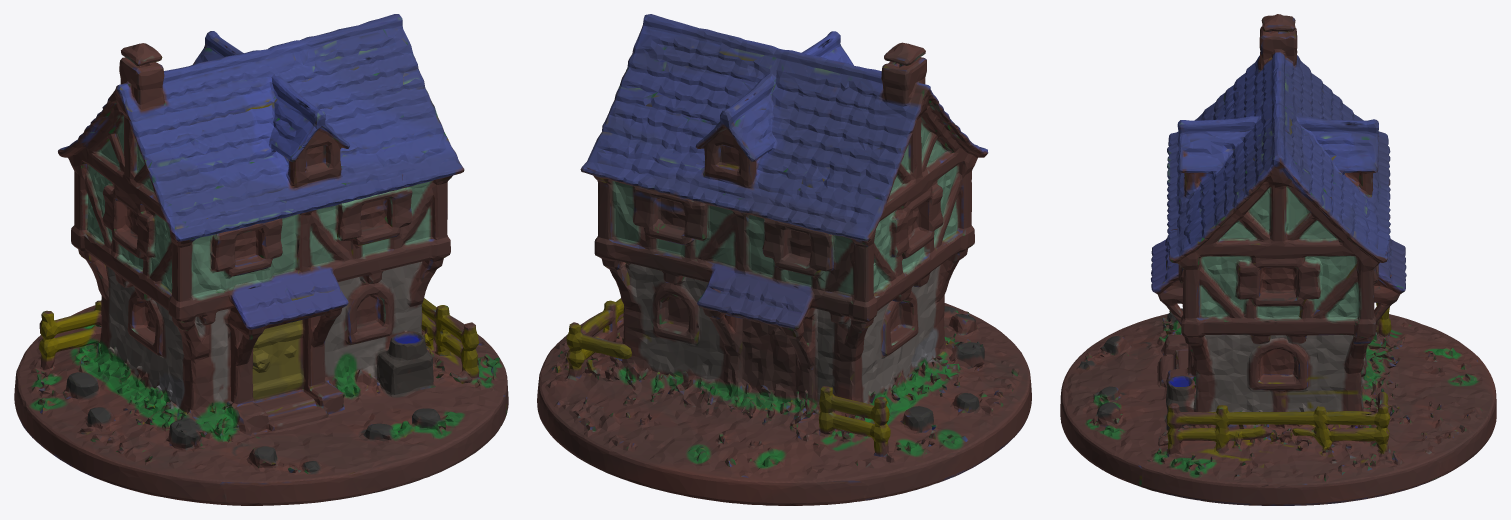
File: casa.glb
3 renders of one model, left to right at view 1: azimuth 30°, elevation 25°; view 2: azimuth 150°, elevation 25°; view 3: azimuth 270°, elevation 25°, orthographic. The views are drawn at different scales.
Visible parts, largest first — view 1: tmp3c7n5c9i.ply; view 2: tmp3c7n5c9i.ply; view 3: tmp3c7n5c9i.ply.
Boxes of the visible parts, x1,y1,x2,y2 form: tmp3c7n5c9i.ply: [14, 14, 508, 505]; tmp3c7n5c9i.ply: [537, 14, 1031, 505]; tmp3c7n5c9i.ply: [1060, 14, 1496, 505].
Bounding box in the file's own units: 1.96 × 1.73 × 1.96.
Materials: 1 (1 with a texture image).
